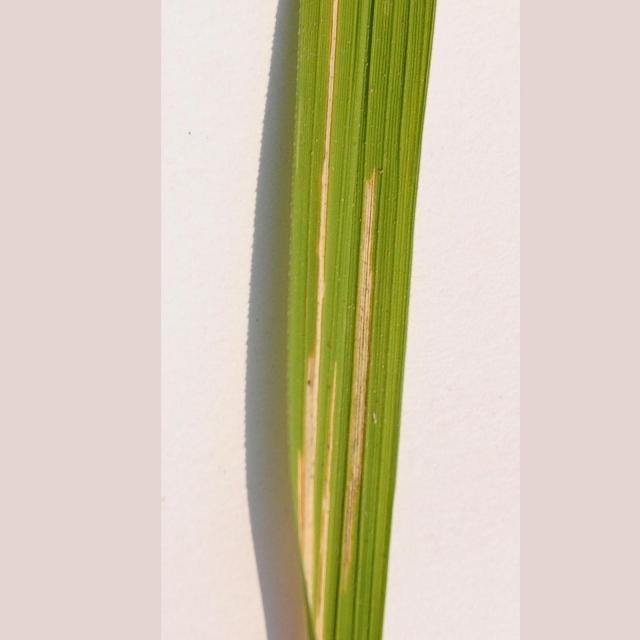leaf blight: (286, 3, 386, 640)
